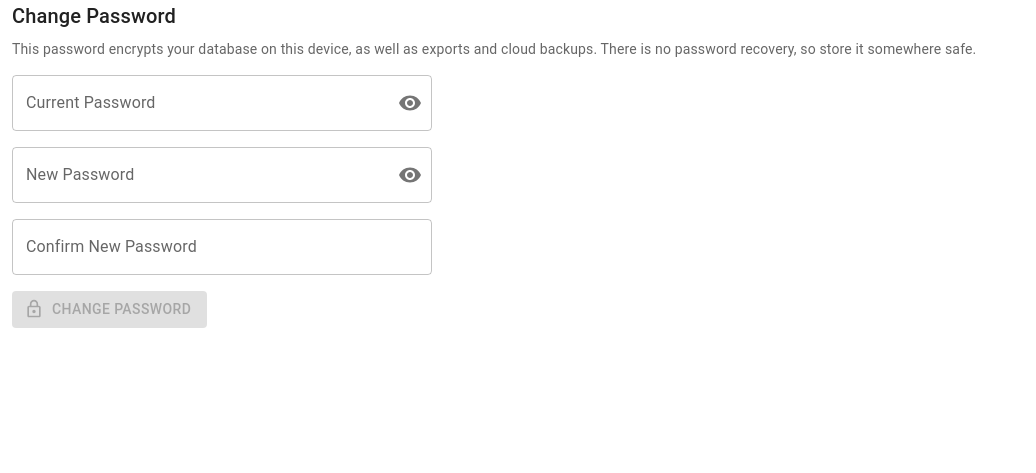
Test case: ChangePasswordSection › shows a warning when the password changed but the cloud re-sync failed
Type "oldpassword" into the password field labelled "Current Password" at (197, 103), box [12,75,382,131]
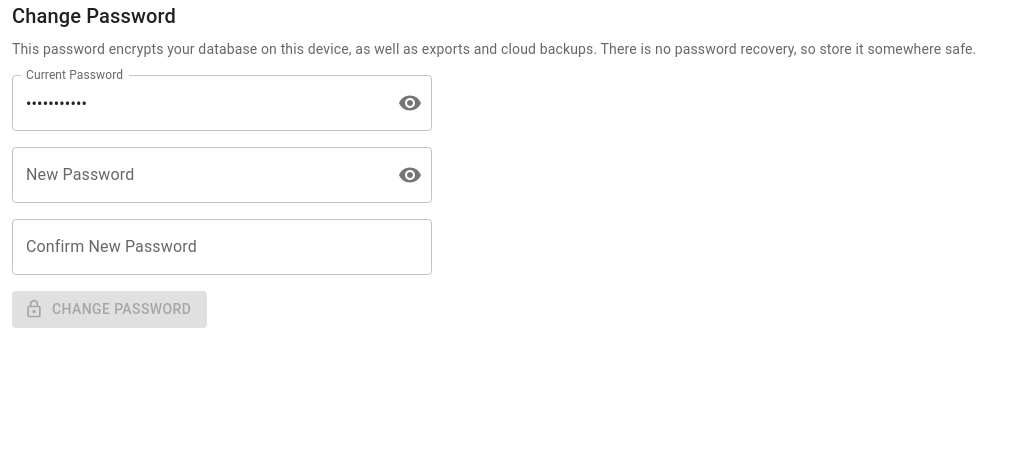
Type "newpassword1" into the password field labelled "New Password" at (197, 175), box [12,147,382,203]
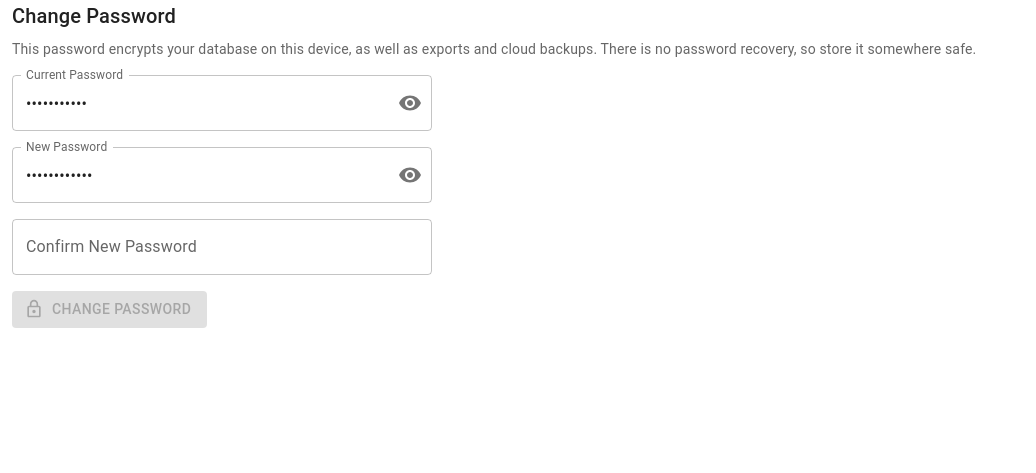
Type "newpassword1" into the password field labelled "Confirm New Password" at (222, 247), box [12,219,432,275]
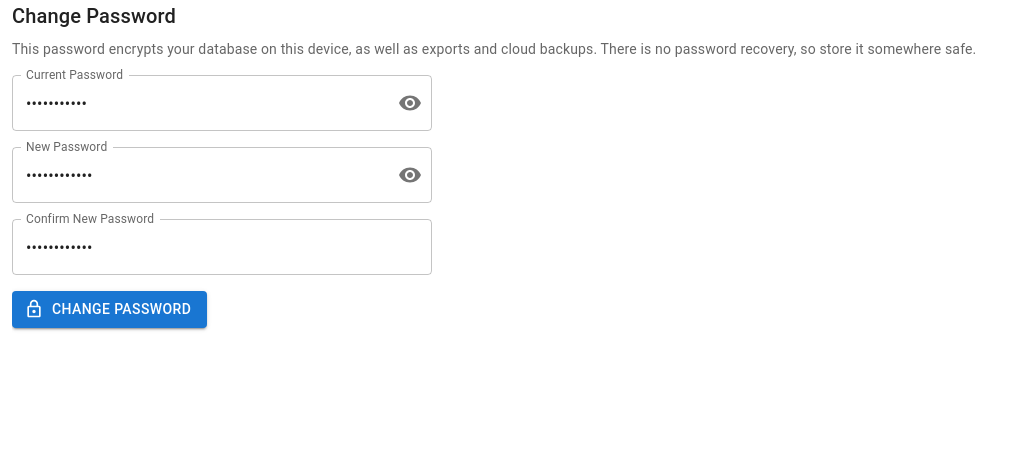
Click the button "Change Password" at (110, 309), box [12,291,207,328]
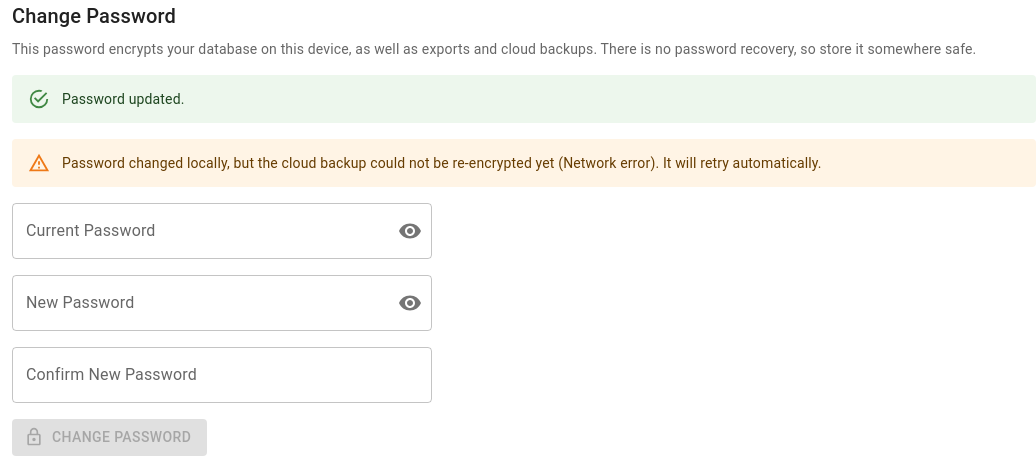
Expected: the text "could not be re-encrypted yet (Network error)" is shown, [62,155,822,171]
